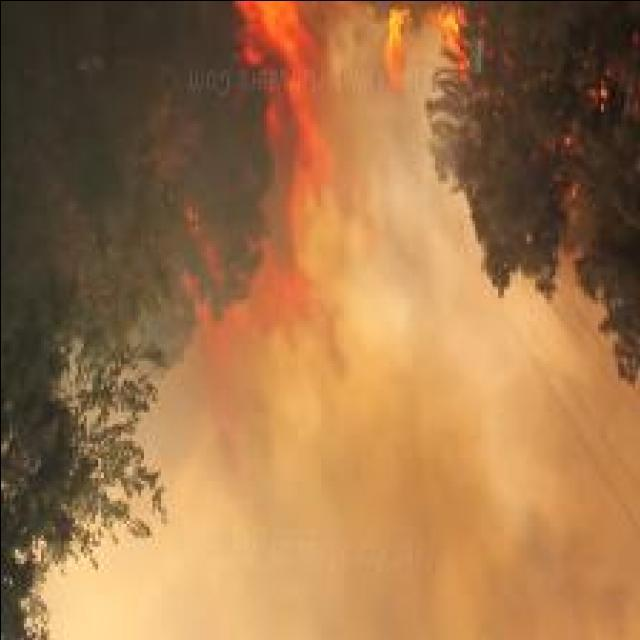Fire: (230, 1, 333, 348), (426, 8, 474, 82), (386, 7, 412, 84)
